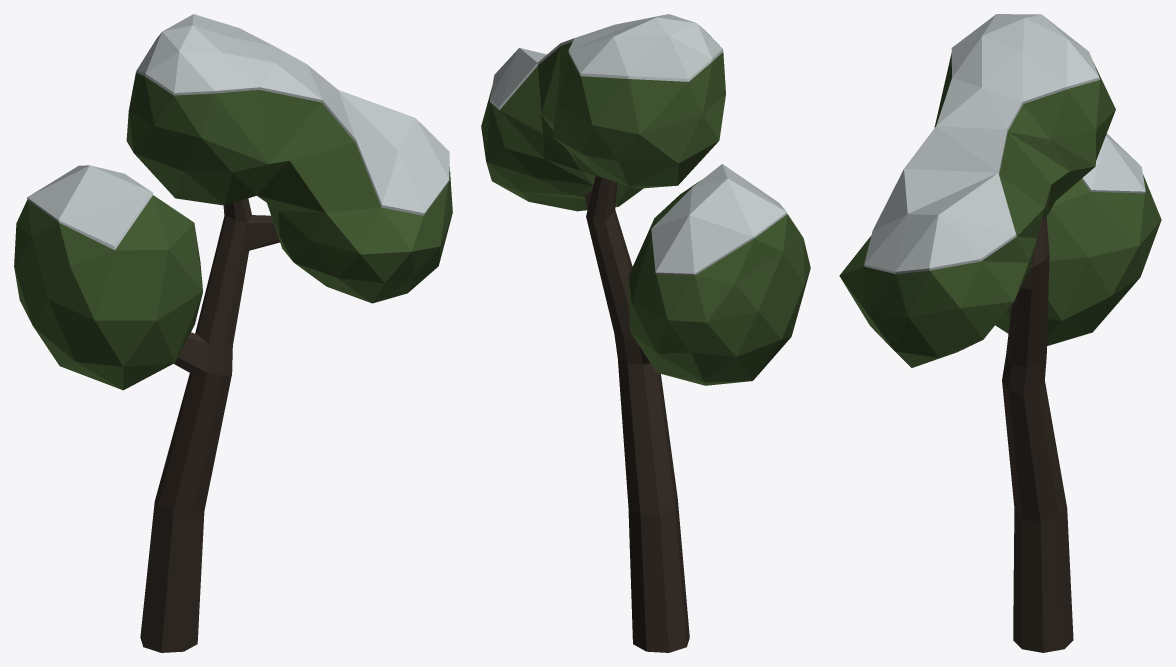
The model's file is tree_snow.fbx.
3 renders of one model, left to right at view 1: azimuth 30°, elevation 25°; view 2: azimuth 150°, elevation 25°; view 3: azimuth 270°, elevation 25°, orthographic. The views are drawn at different scales.
Parts seen in each view (by area): view 1: Snow_Tree_Branches; view 2: Snow_Tree_Branches; view 3: Snow_Tree_Branches.
Boxes of the visible parts, x1,y1,x2,y2 form: Snow_Tree_Branches: [14, 14, 452, 652]; Snow_Tree_Branches: [481, 14, 810, 652]; Snow_Tree_Branches: [839, 14, 1161, 652].
Bounding box in the file's own units: 347 × 575 × 267.
